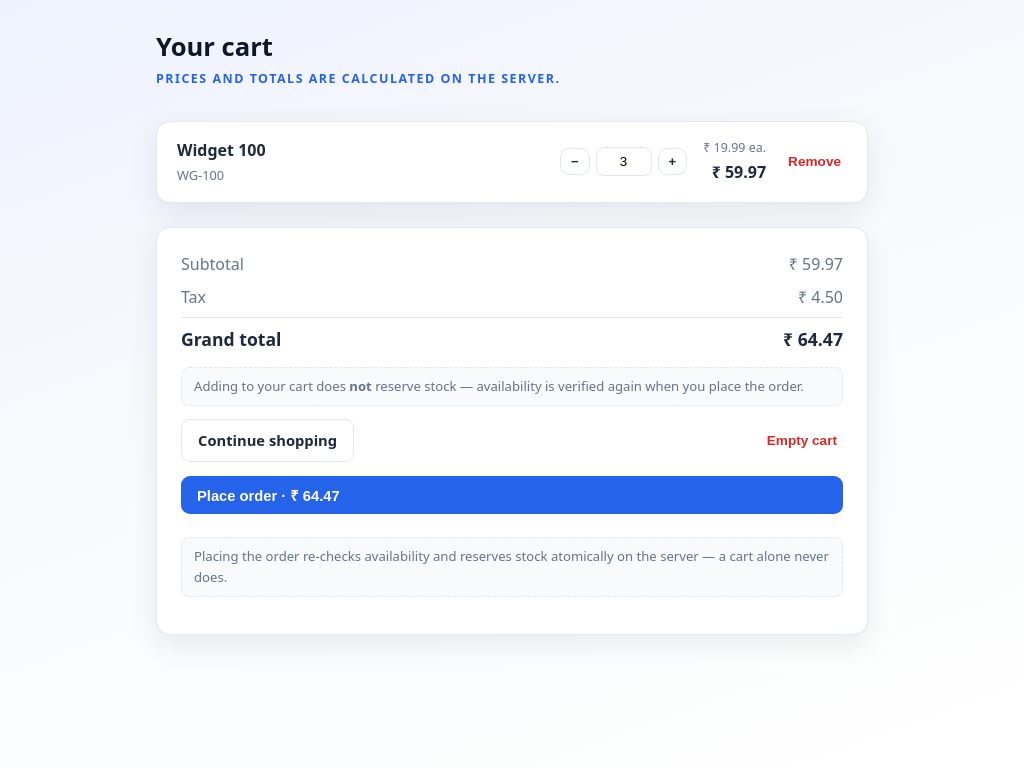
Scenario: CartPage › removes a line via DELETE and re-renders the returned cart
The image size is (1024, 768).
Check: the text "Widget 100" is shown, box top-left (177, 139), bottom-right (266, 161)
Click the button "Remove".
click(815, 162)  # box top-left (782, 150), bottom-right (847, 173)
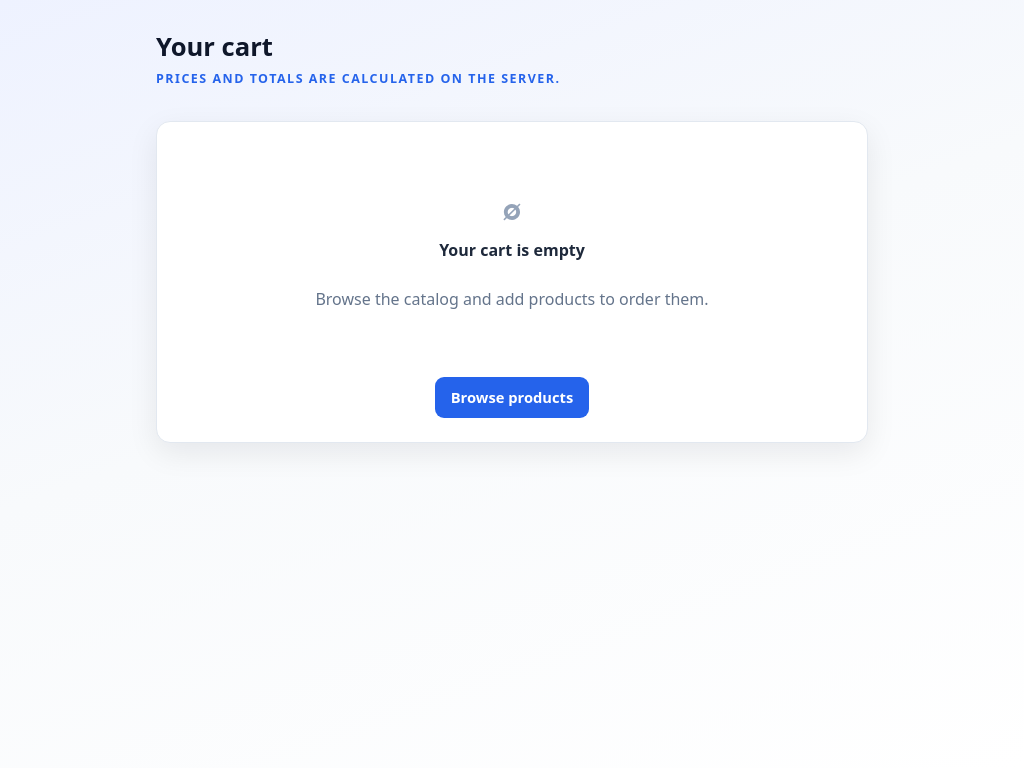
Check: the text "Your cart is empty" is shown, box top-left (439, 239), bottom-right (585, 261)
